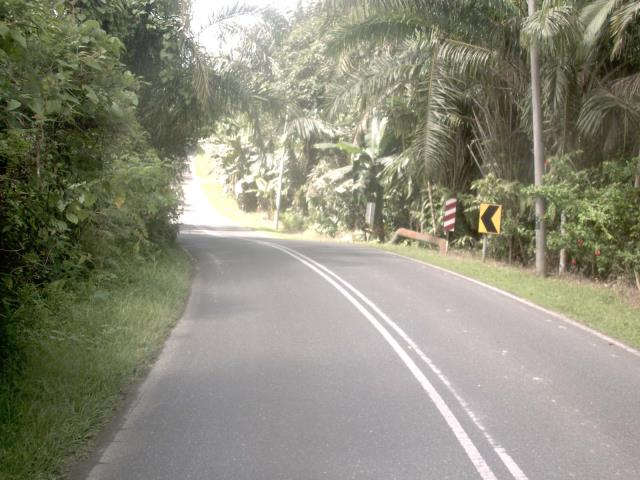traffic_sign: (473, 194, 508, 242)
